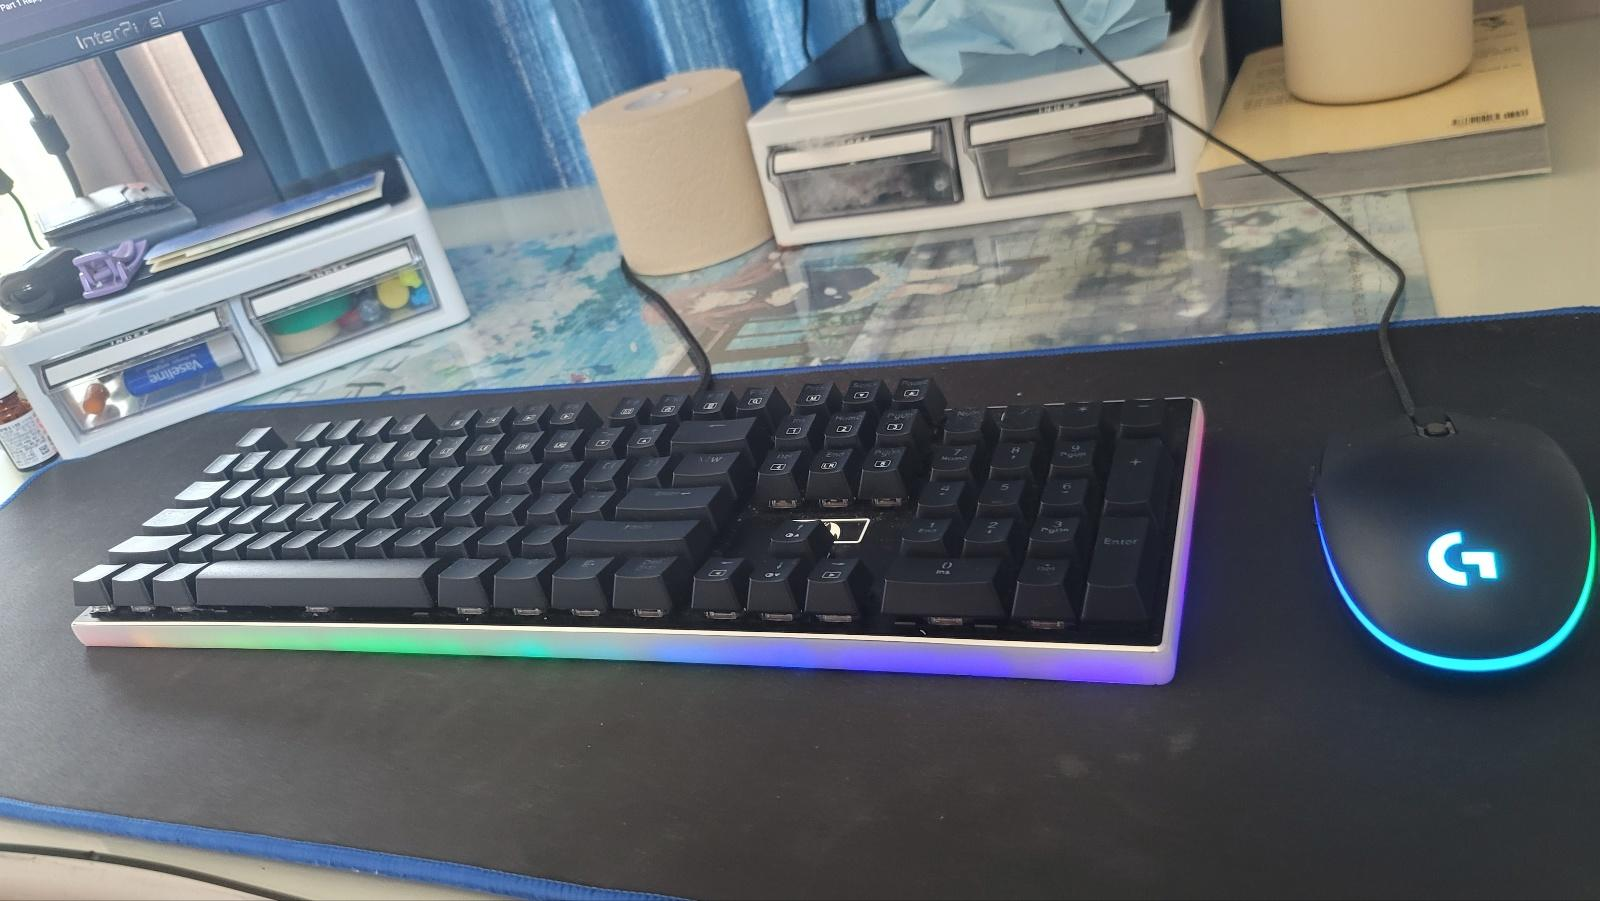book: (1195, 3, 1553, 210)
keyboard: (69, 372, 1205, 685)
mouse: (1309, 407, 1597, 679)
